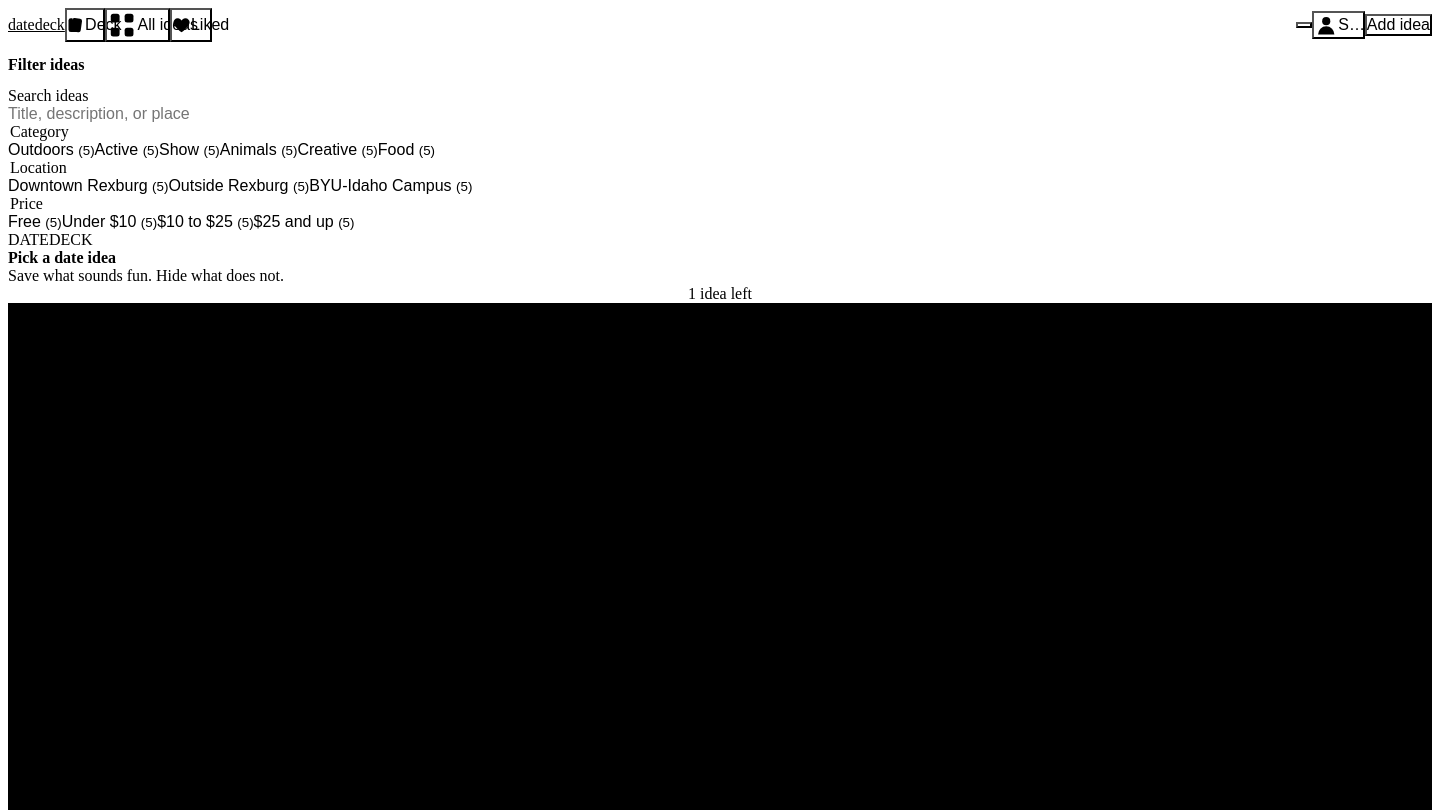
Home deck › shows sample and PocketBase ideas together in the All ideas grid
Click the button "All ideas": coordinates (138, 25) [105,8,170,42]
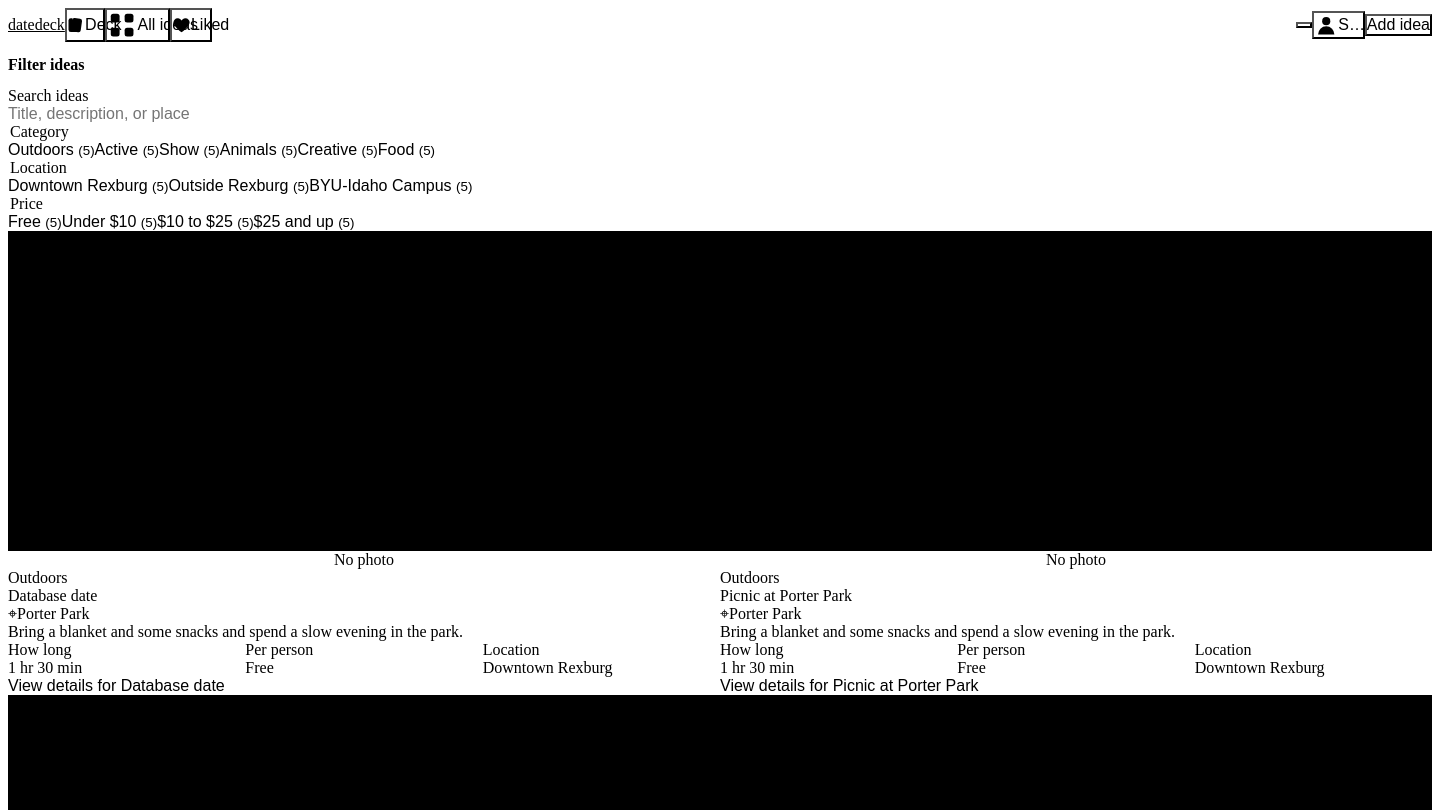
Expected: the heading "Database date" is shown, [8,587,97,604]
Result: the heading "Picnic at Porter Park" is shown at [720,587,852,604]
